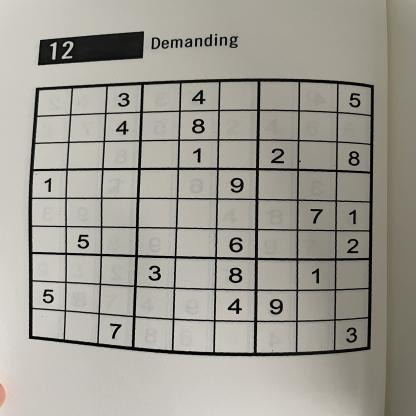sudoku: (25, 74, 378, 360)
